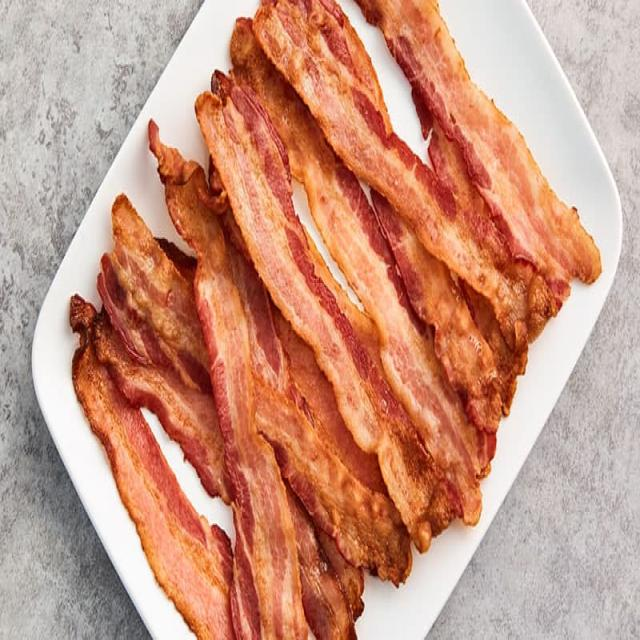Bacon: (195, 71, 444, 551), (255, 0, 562, 352), (242, 40, 479, 464), (362, 1, 601, 302), (165, 169, 308, 638), (72, 333, 234, 639), (254, 374, 411, 586), (372, 191, 501, 432), (92, 309, 231, 503), (109, 193, 210, 388)
